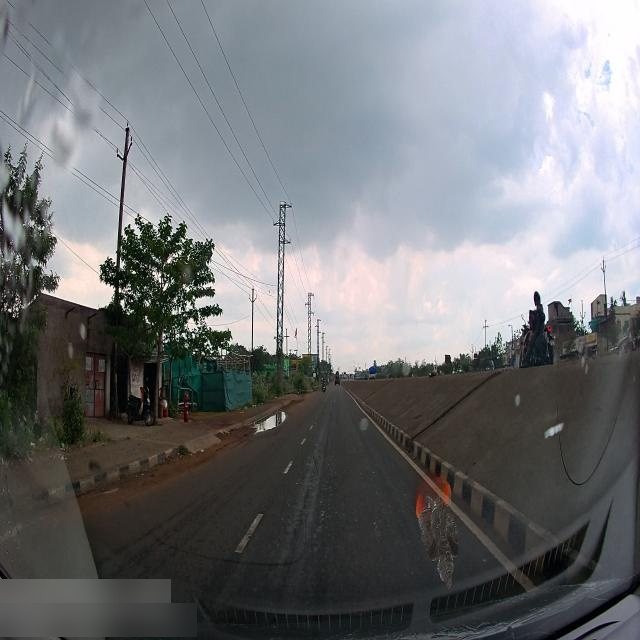pothole: (251, 411, 289, 432)
